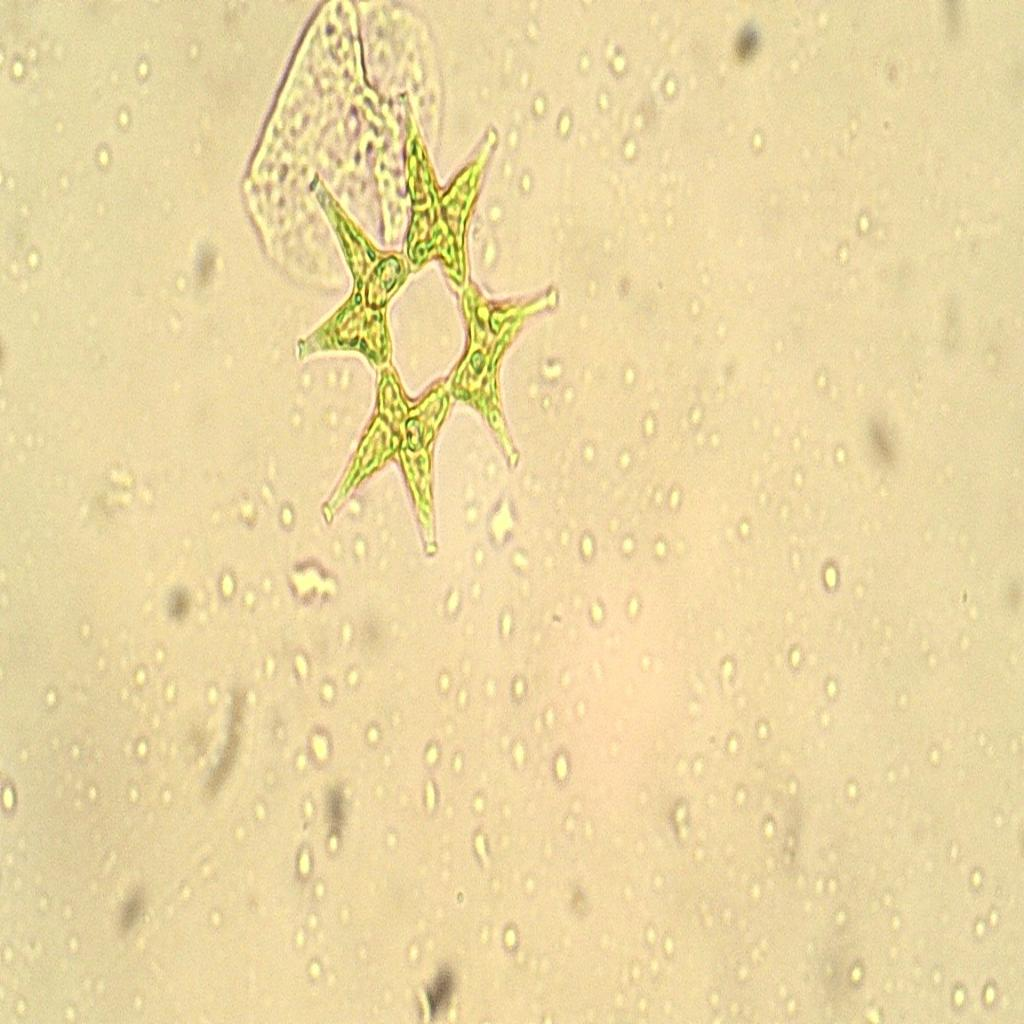Pediastrum_10: (256, 81, 584, 585)
